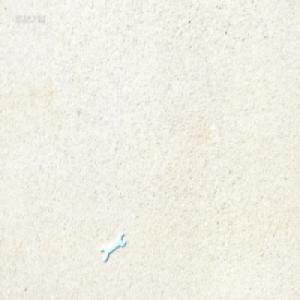Wrench: (101, 233, 125, 262)
